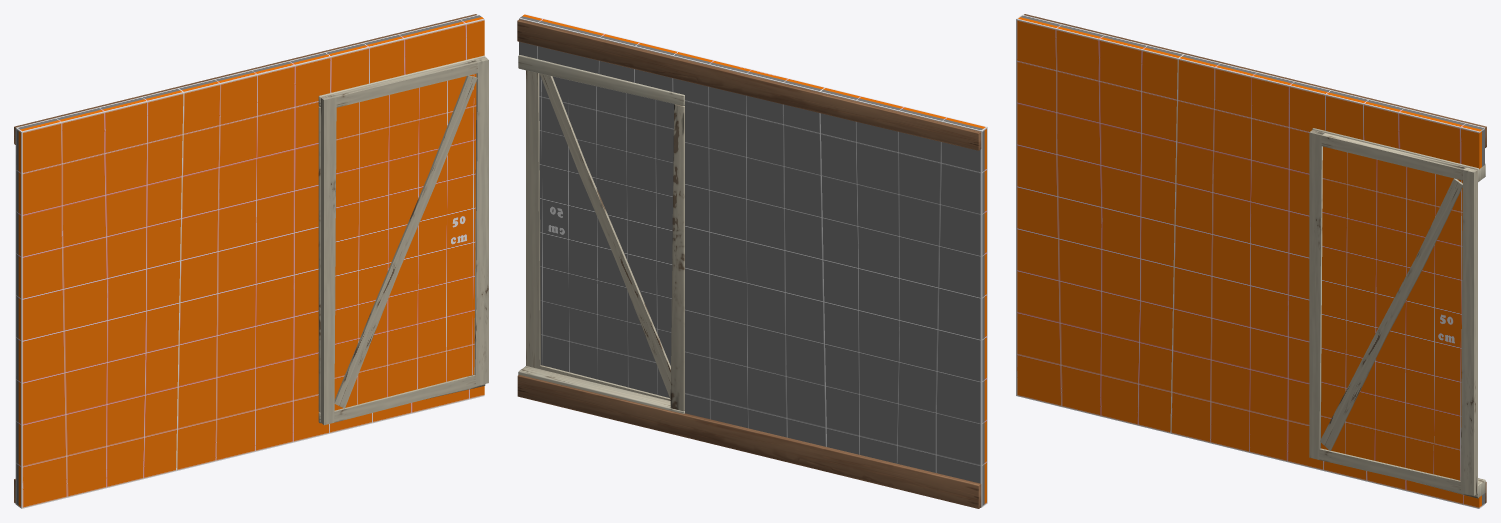
The model's file is Hangar01WW_6.FBX.
The picture shows the model from 3 angles, left to right: view 1: azimuth 30°, elevation 25°; view 2: azimuth 150°, elevation 25°; view 3: azimuth 330°, elevation 25°; orthographic projection.
Visible parts, largest first — view 1: Hangar01WW_6; view 2: Hangar01WW_6; view 3: Hangar01WW_6.
Part boxes in pixels (left/top/right/bottom): Hangar01WW_6: left=14, top=14, right=488, bottom=508; Hangar01WW_6: left=517, top=14, right=987, bottom=508; Hangar01WW_6: left=1016, top=14, right=1486, bottom=508.
Size of what is drawn, in the model's own units: 4.5 by 3.5 by 0.2177.
